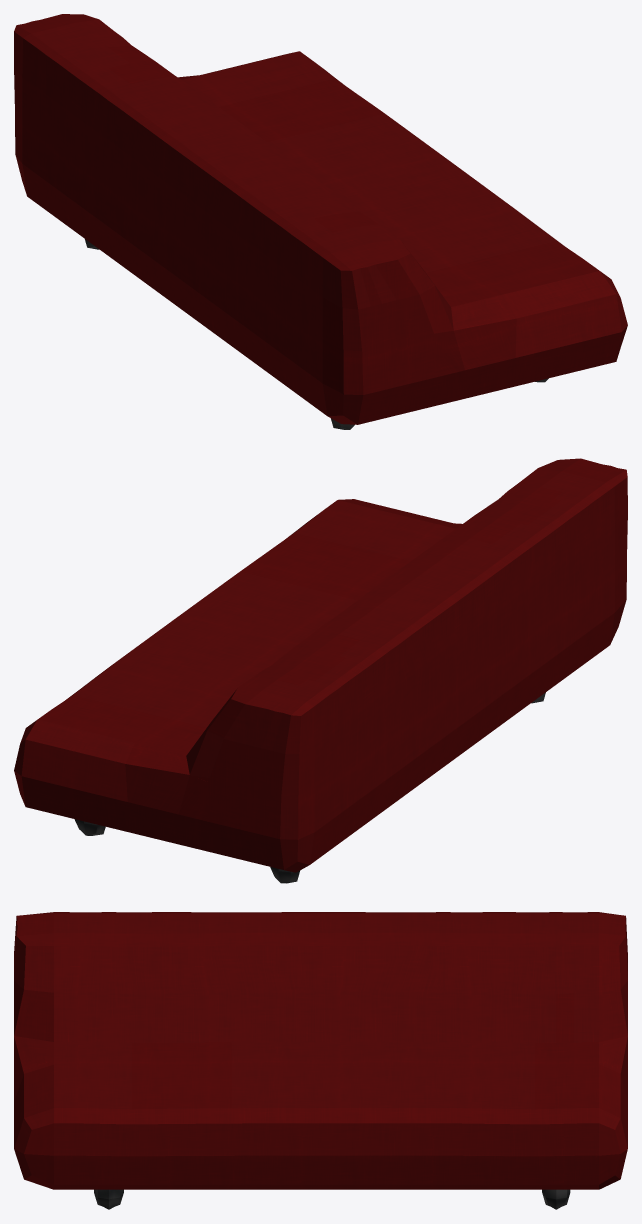
Rendered from chairred.obj.
3 views of the same model, one above another, from view 1: azimuth 30°, elevation 25°; view 2: azimuth 150°, elevation 25°; view 3: azimuth 270°, elevation 25° (orthographic). The views are drawn at different scales.
Parts seen in each view (by area): view 1: Cube; view 2: Cube; view 3: Cube.
Part boxes in pixels (<box>): Cube: <box>14,14,627,429</box>; Cube: <box>14,458,627,883</box>; Cube: <box>14,912,627,1209</box>.
Bounding box in the file's own units: 1.7 × 1.16 × 3.4.
